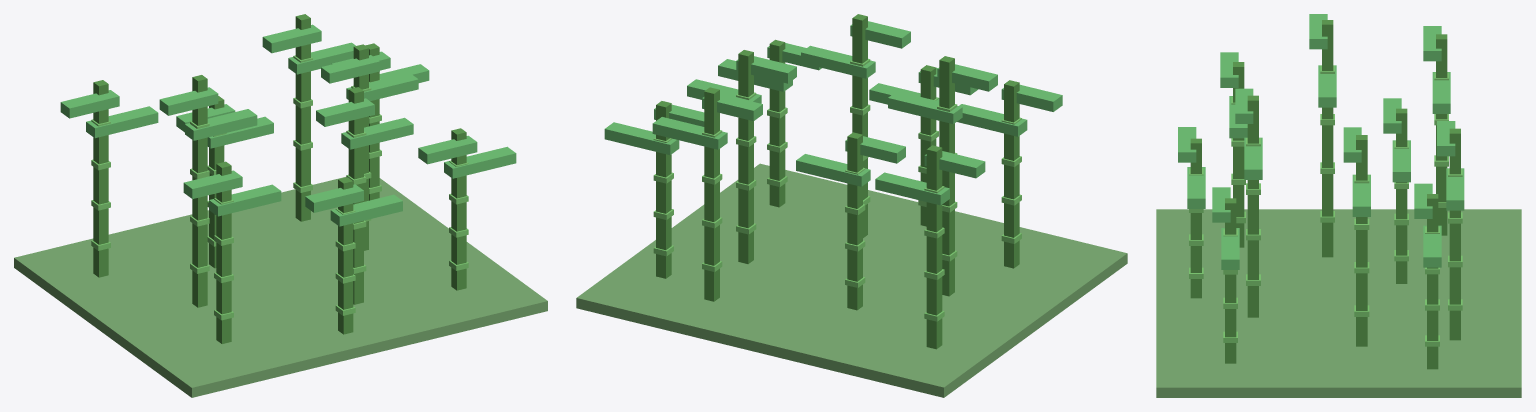
The model's file is voxel-beijing-bamboo-grove.gltf.
3 views of the same model, side by side, from view 1: azimuth 30°, elevation 25°; view 2: azimuth 150°, elevation 25°; view 3: azimuth 270°, elevation 25° (orthographic). The views are drawn at different scales.
Bounding box in the file's own units: 3.82 × 2.35 × 3.2.
